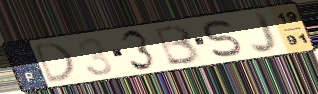3: (118, 28, 160, 72), (77, 36, 114, 77)
B: (153, 22, 203, 67)
D: (31, 40, 78, 86)
J: (249, 10, 280, 55)
S: (202, 18, 244, 59)
